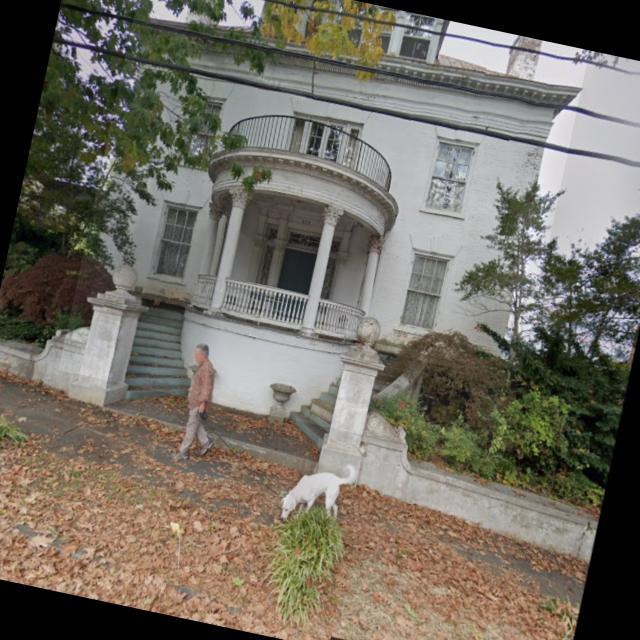House: (58, 0, 589, 464)
